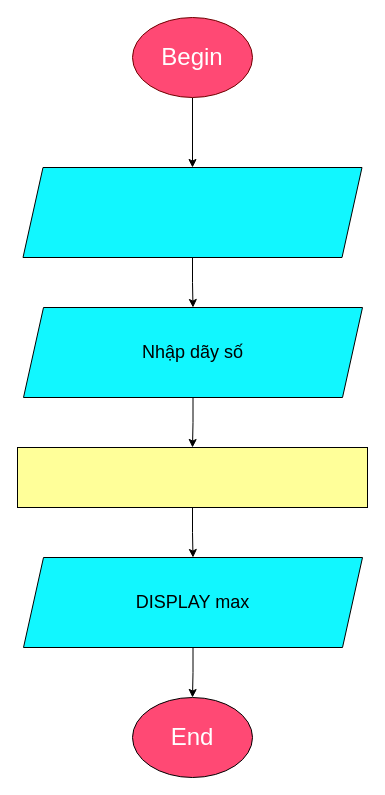
The diagram is 385 pixels wide and 795 high, and some of its shapes have lost their labels. The box of each missing label's shape, as (x1, y1, x2, y2) in pixels:
i = 1, i <= n IF ai > a(i+1) THEN max = ai: (16, 446, 368, 508)
Nhập n: (22, 166, 362, 258)
